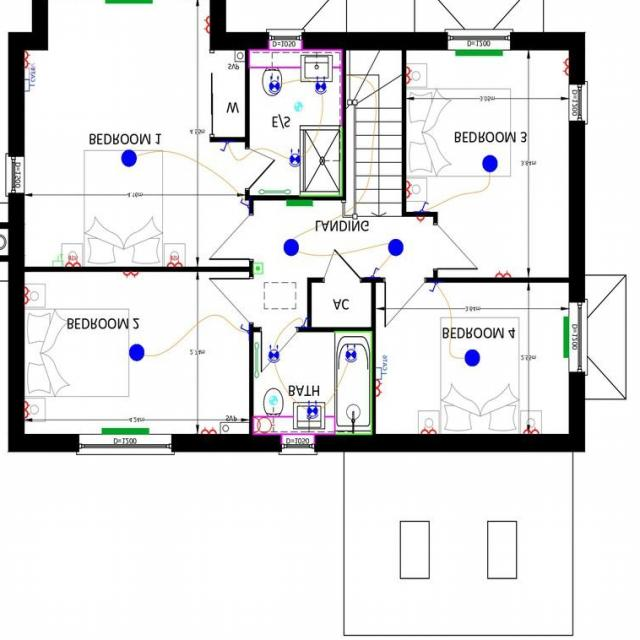Cat 6 Data Socket: (374, 356, 387, 380), (24, 69, 34, 92)
Ceiling Mounted Continuous Extract FanWith Boost Mode Activated By Light Switch: (268, 397, 277, 406), (294, 103, 301, 112)
Double Socket: (494, 270, 511, 279), (419, 427, 436, 435), (122, 272, 138, 280), (522, 427, 538, 435), (24, 402, 31, 420), (375, 380, 382, 398), (24, 288, 31, 305), (405, 182, 412, 199), (562, 57, 568, 76), (202, 16, 208, 35), (200, 428, 216, 435), (24, 52, 31, 68), (405, 67, 411, 84)
Full Height Tiling: (335, 332, 372, 436), (301, 128, 342, 198)
Light Switch: (369, 268, 379, 278), (239, 324, 248, 334), (428, 284, 438, 293), (419, 202, 428, 212), (239, 198, 248, 208), (300, 318, 308, 328), (218, 144, 228, 152)
Low Energy Downlighter: (306, 401, 318, 420), (344, 345, 356, 364), (288, 149, 300, 168), (268, 76, 280, 95), (314, 77, 326, 94), (268, 345, 278, 364)
Low Energy Pendant Light: (120, 150, 137, 168), (128, 345, 144, 362), (464, 350, 479, 367), (482, 156, 496, 174), (283, 240, 298, 256), (388, 240, 402, 257)
Programmable Room Thermostat: (252, 264, 262, 274)
Radiator: (101, 428, 148, 436), (455, 50, 502, 56), (563, 317, 568, 358), (105, 0, 152, 4), (286, 201, 312, 206)
Shaver Socket: (251, 419, 274, 434)
Single Socket: (415, 218, 424, 224)
TV - Satellite Multisocket: (23, 65, 34, 80)
USB Double Socket: (64, 255, 81, 268), (166, 256, 183, 268)
